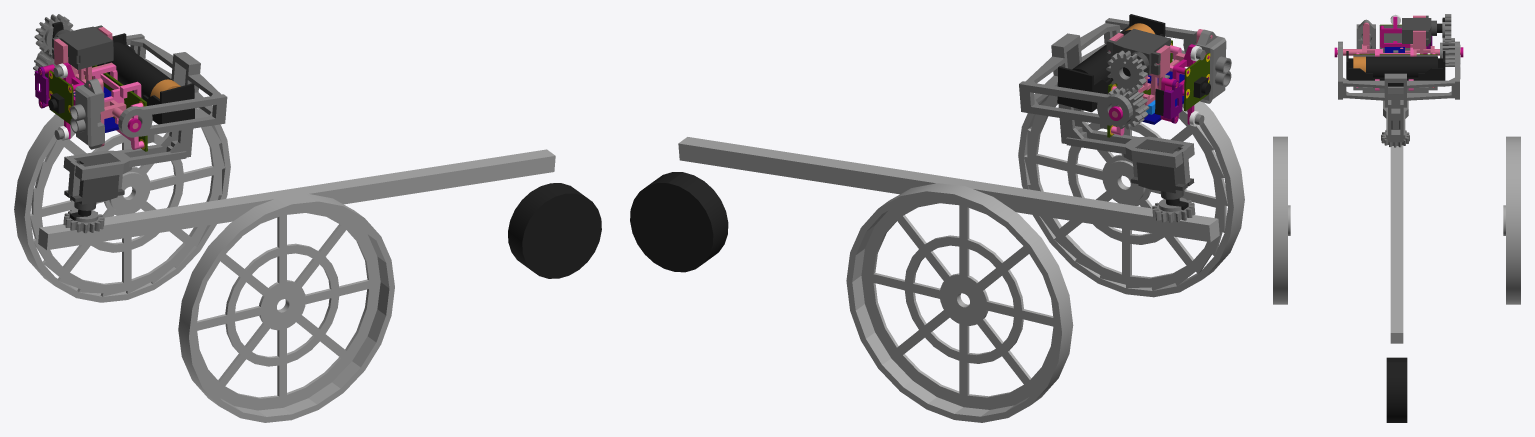
Rendered from basic-robot-model.glb.
3 renders of one model, left to right at view 1: azimuth 30°, elevation 25°; view 2: azimuth 150°, elevation 25°; view 3: azimuth 270°, elevation 25°, orthographic. The views are drawn at different scales.
Visible parts, largest first — view 1: object 25, root, object 26, object 5, object 23, object 13, object 8, object 3, object 7, object 14, object 20, object 18 (+2 smaller); view 2: object 26, root, object 25, object 5, object 3, object 7, object 23, object 13, object 18, object 20, object 8, object 11 (+2 smaller); view 3: root, object 5, object 25, object 26, object 8, object 7, object 23, object 19, object 13, object 10, object 20, object 18.
Part boxes in pixels (x1=…): object 25: x1=178, y1=193, x2=394, y2=422; root: x1=38, y1=27, x2=601, y2=278; object 26: x1=14, y1=107, x2=230, y2=302; object 5: x1=35, y1=34, x2=227, y2=196; object 23: x1=52, y1=21, x2=113, y2=69; object 13: x1=70, y1=78, x2=104, y2=149; object 8: x1=106, y1=42, x2=180, y2=98; object 3: x1=64, y1=153, x2=124, y2=210; object 7: x1=97, y1=33, x2=194, y2=124; object 14: x1=78, y1=64, x2=144, y2=149; object 20: x1=48, y1=70, x2=73, y2=124; object 18: x1=34, y1=14, x2=73, y2=54; object 26: x1=846, y1=183, x2=1073, y2=422; root: x1=630, y1=29, x2=1219, y2=272; object 25: x1=1018, y1=95, x2=1244, y2=297; object 5: x1=1019, y1=18, x2=1197, y2=184; object 3: x1=1131, y1=139, x2=1194, y2=199; object 7: x1=1057, y1=14, x2=1165, y2=112; object 23: x1=1106, y1=29, x2=1170, y2=76; object 13: x1=1196, y1=29, x2=1231, y2=103; object 18: x1=1106, y1=50, x2=1147, y2=92; object 20: x1=1184, y1=53, x2=1210, y2=111; object 8: x1=1072, y1=23, x2=1154, y2=82; object 11: x1=1155, y1=80, x2=1182, y2=123; root: x1=1337, y1=15, x2=1460, y2=422; object 5: x1=1338, y1=41, x2=1460, y2=142; object 25: x1=1273, y1=136, x2=1290, y2=304; object 26: x1=1503, y1=136, x2=1520, y2=304; object 8: x1=1353, y1=56, x2=1437, y2=77; object 7: x1=1346, y1=51, x2=1445, y2=86; object 23: x1=1402, y1=15, x2=1444, y2=46; object 19: x1=1353, y1=54, x2=1437, y2=93; object 13: x1=1356, y1=19, x2=1375, y2=54; object 10: x1=1380, y1=16, x2=1426, y2=54; object 20: x1=1379, y1=24, x2=1410, y2=52; object 18: x1=1442, y1=14, x2=1451, y2=42.
Size of the model in its own units: 0.351 by 0.2087 by 0.1924.
